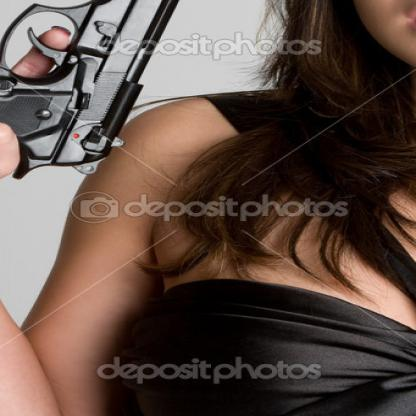gun: (0, 0, 227, 179)
